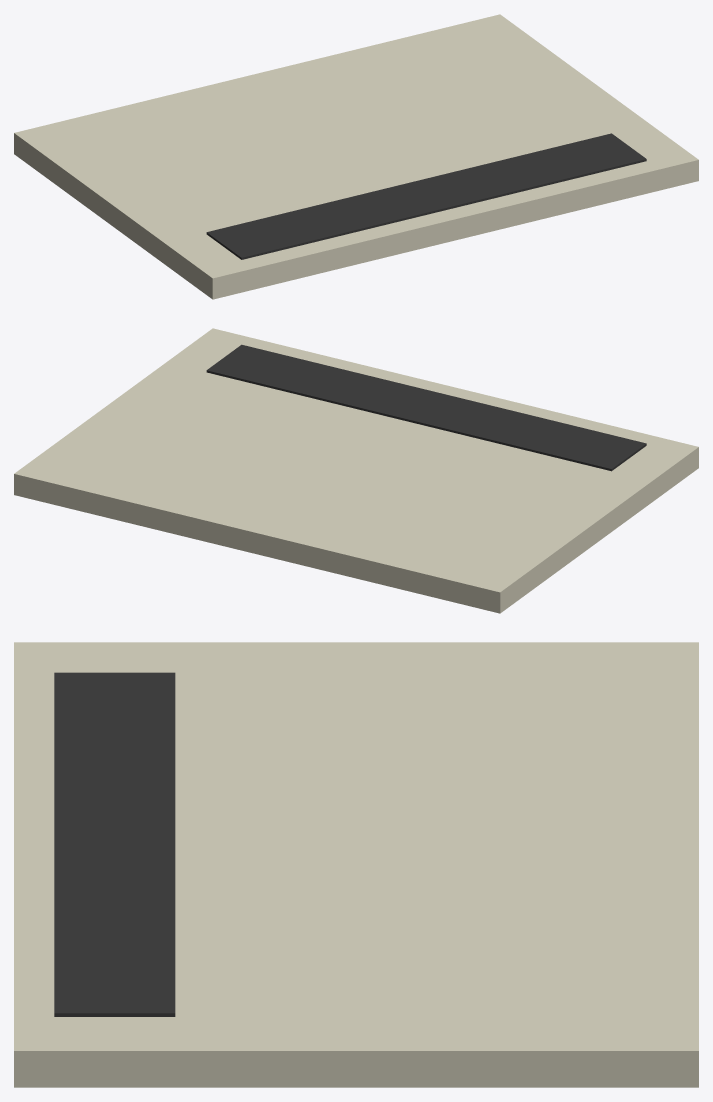
File: newspaper.glb
3 views of the same model, one above another, from view 1: azimuth 30°, elevation 25°; view 2: azimuth 150°, elevation 25°; view 3: azimuth 270°, elevation 25° (orthographic). The views are drawn at different scales.
Visible parts, largest first — view 1: Item; view 2: Item; view 3: Item.
Boxes of the visible parts, box(x1,y1,x2,y2) form: Item: box(14, 14, 698, 299); Item: box(14, 328, 698, 613); Item: box(14, 642, 698, 1087).
Size of the model in its own units: 0.24 by 0.011 by 0.17.
